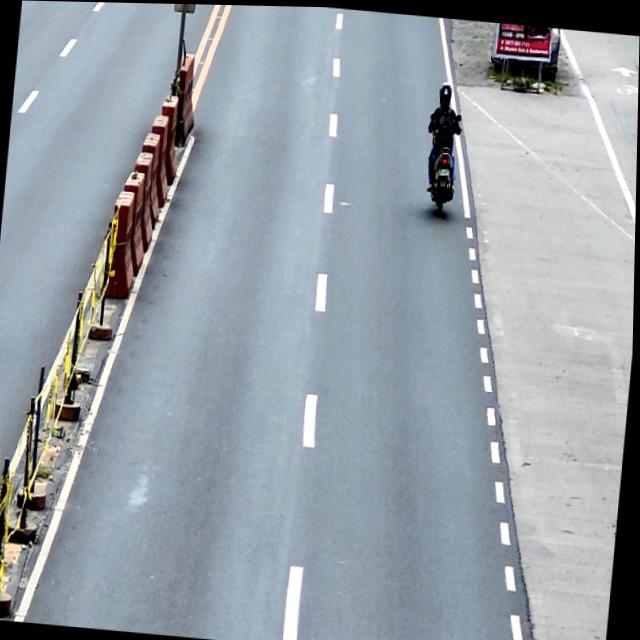License-Plate: (438, 165, 450, 175)
Motorcycle: (422, 109, 463, 218)
